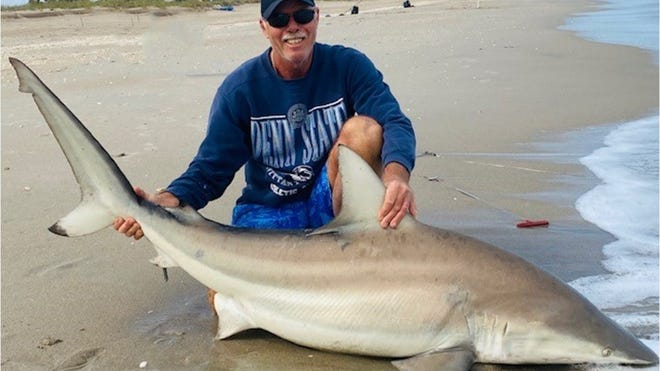shark: (6, 49, 616, 371)
